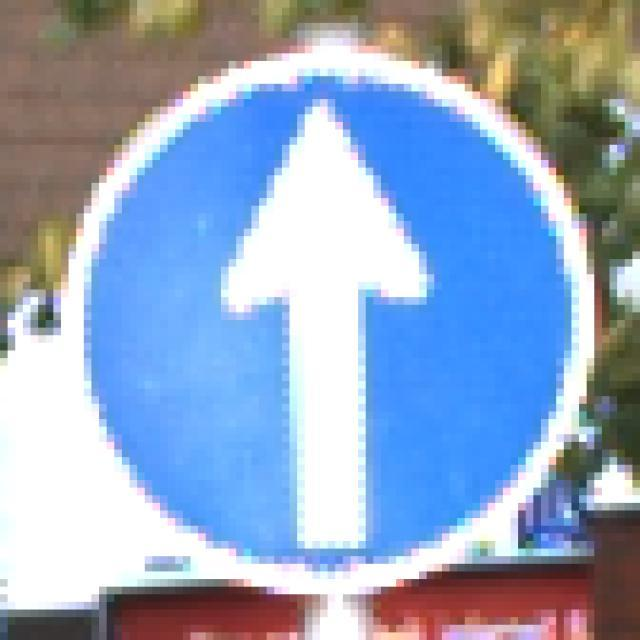compulsary ahead: (79, 48, 582, 581)
